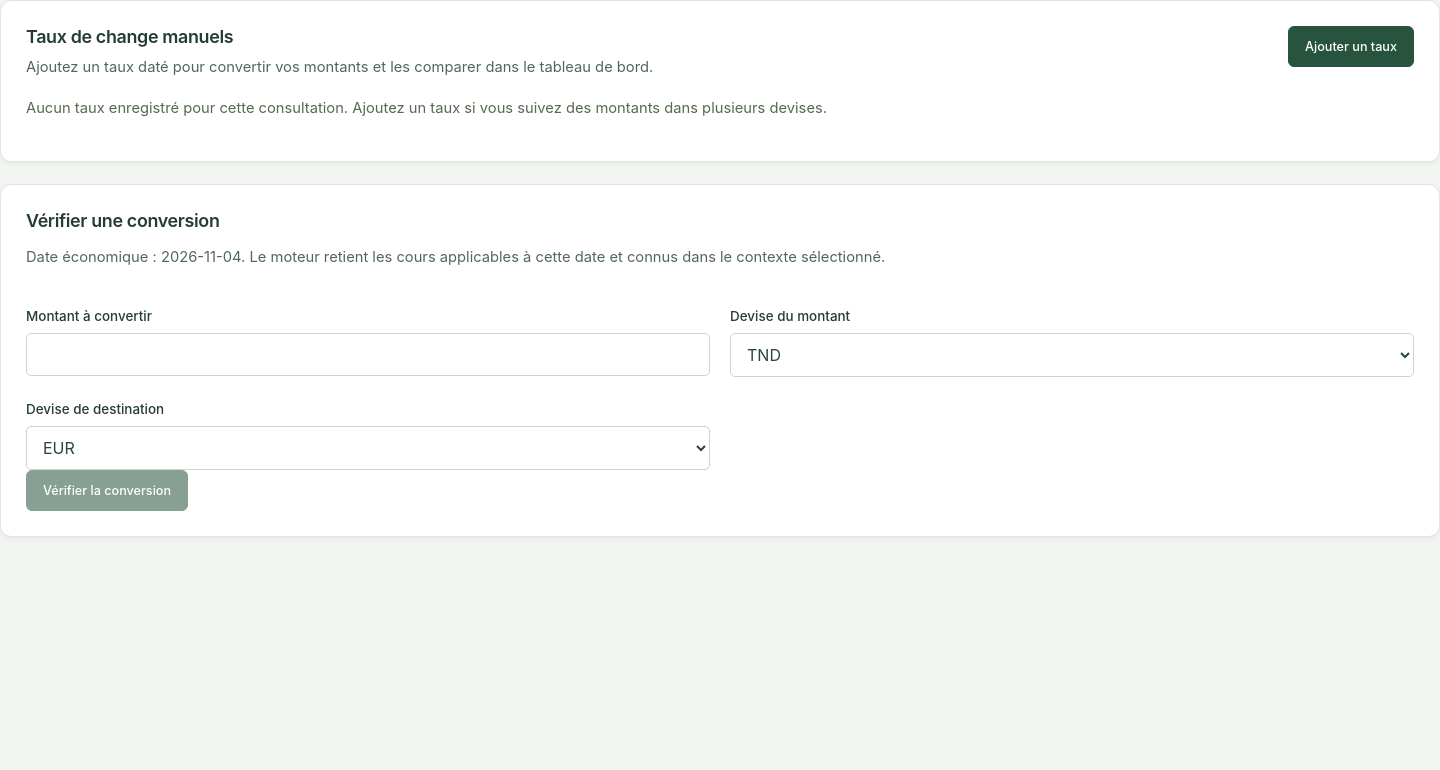
Taux manuels et conversions locales › conserve une saisie rejetée et n’annonce aucune réussite
Click the button "Ajouter un taux" at (1351, 46), box [1288,26,1414,67]
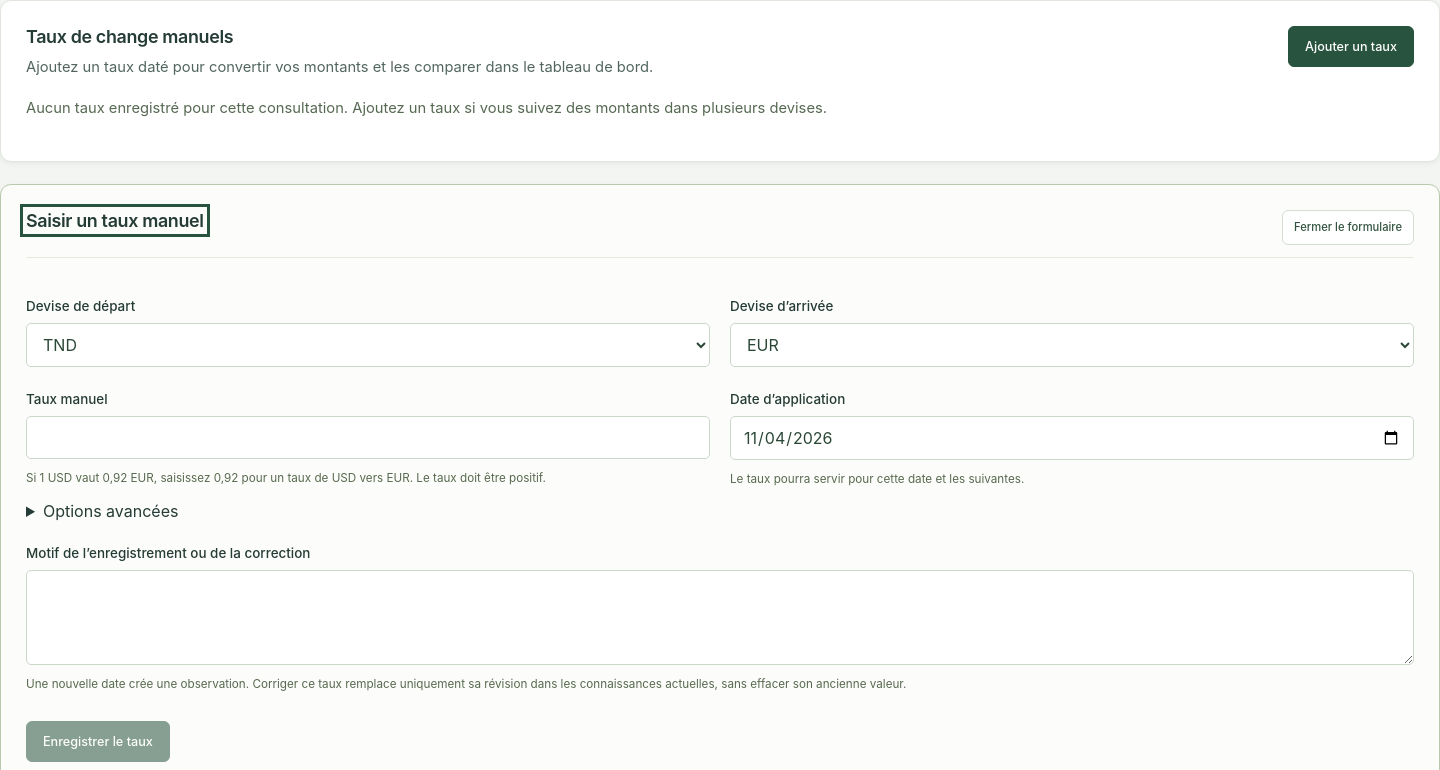
Type "-0,5" into the field labelled "Taux manuel" at (368, 437), box [26,416,710,459]
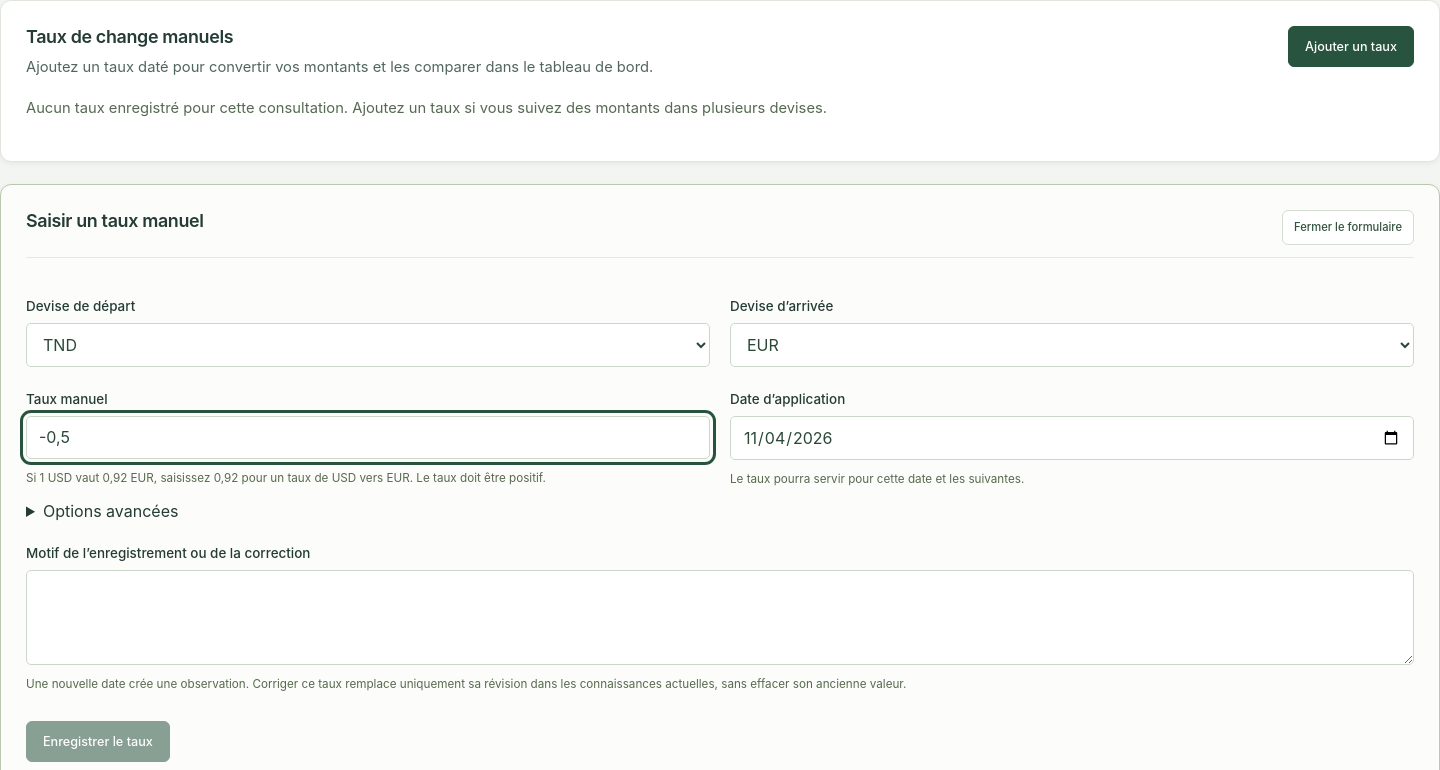
Type "Erreur à vérifier" into the text box labelled "Motif de l’enregistrement ou de la correction" at (720, 618), box [26,570,1414,665]
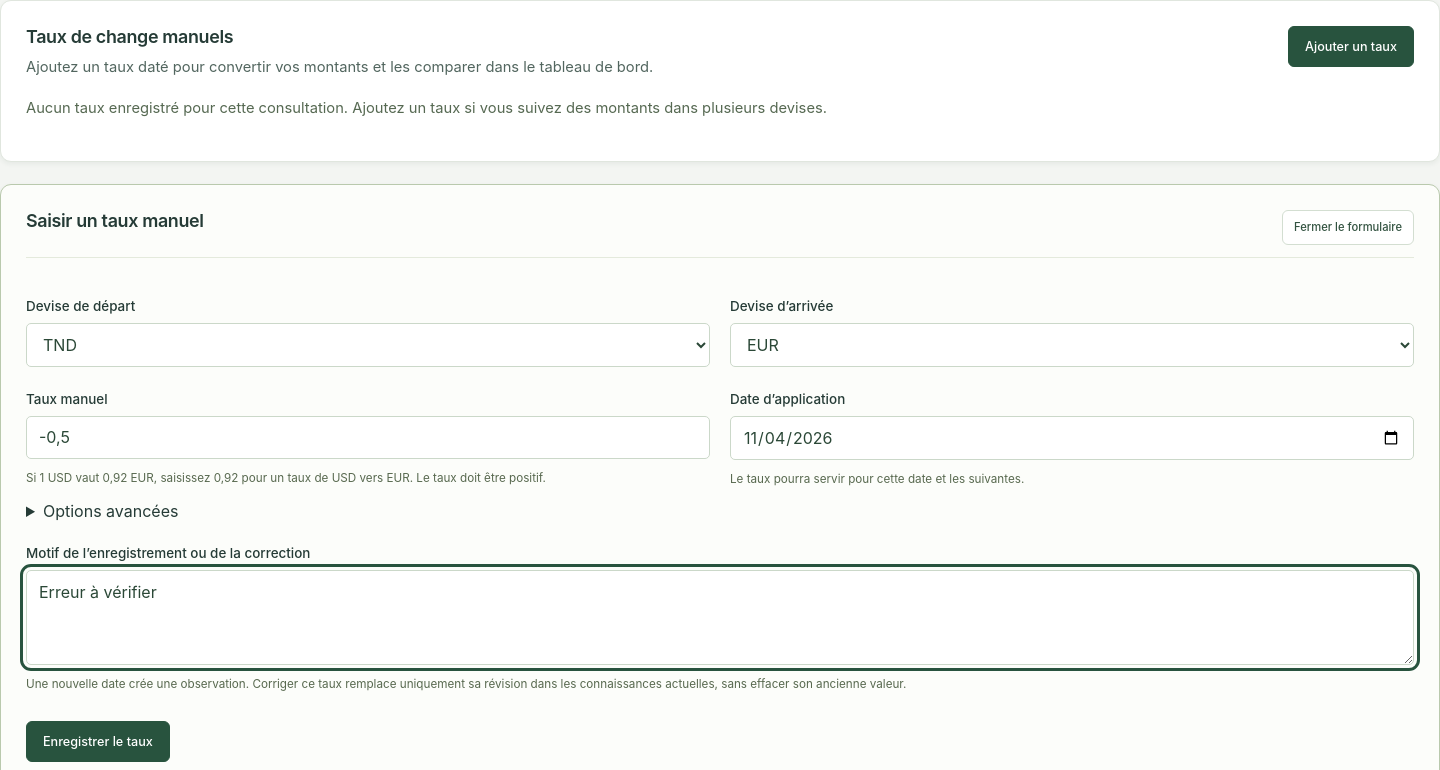
Click the button "Enregistrer le taux" at (98, 741), box [26,721,170,762]
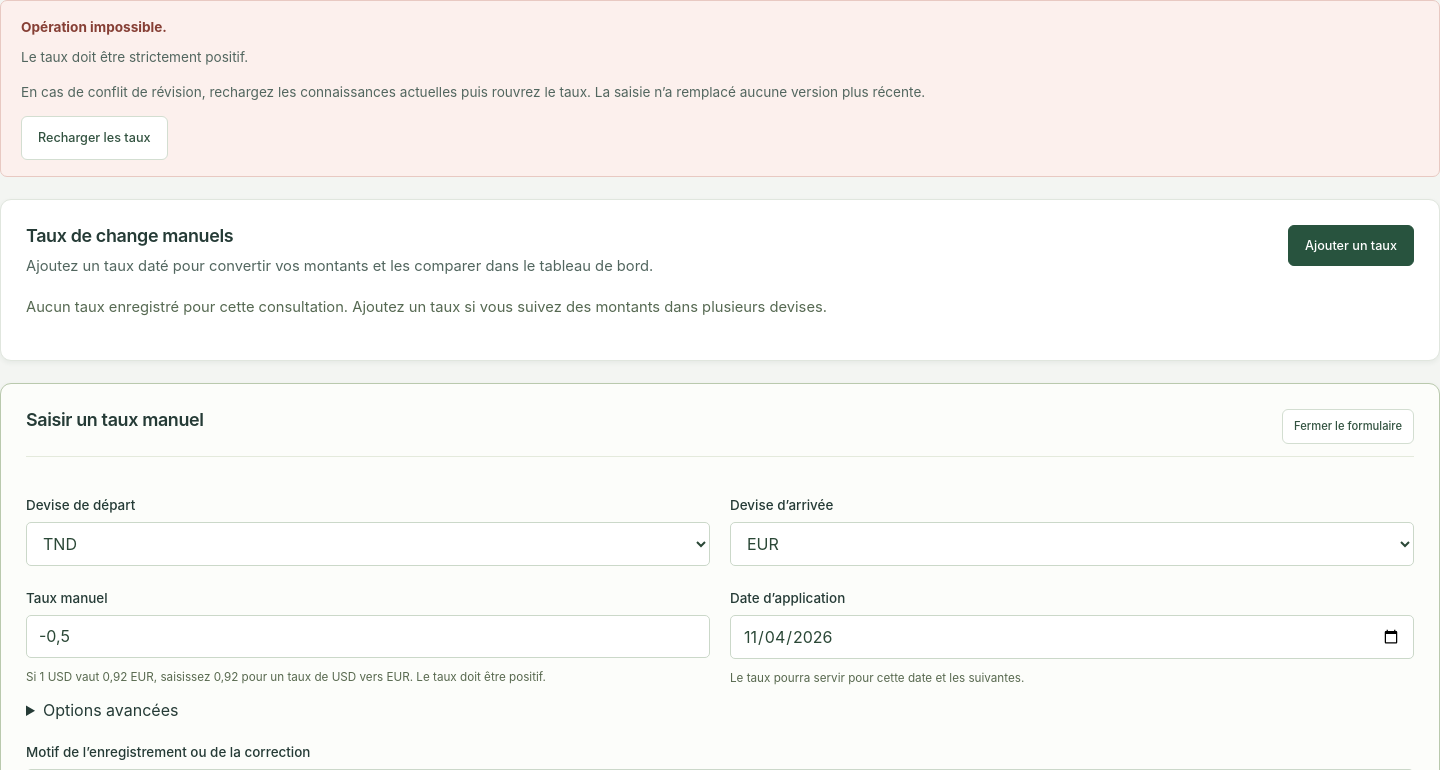
Now the message shows "Le taux doit être strictement positif.", box [21,49,248,65]
